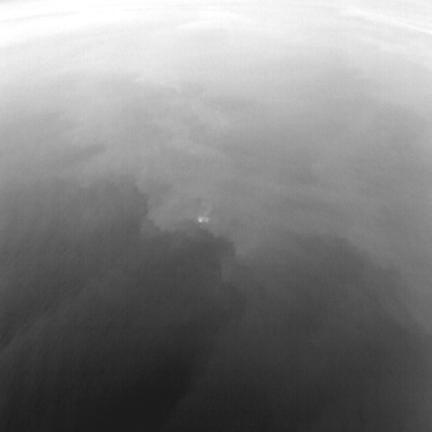flukeprints: (197, 216, 209, 223)
